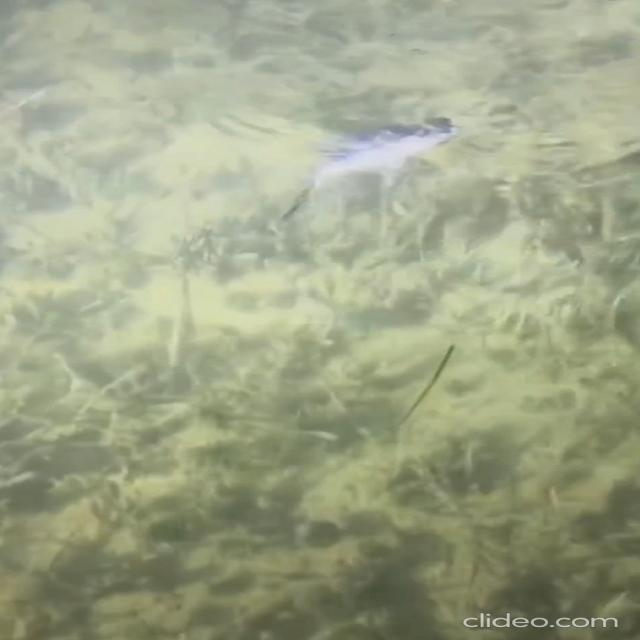fish: (292, 112, 460, 218)
